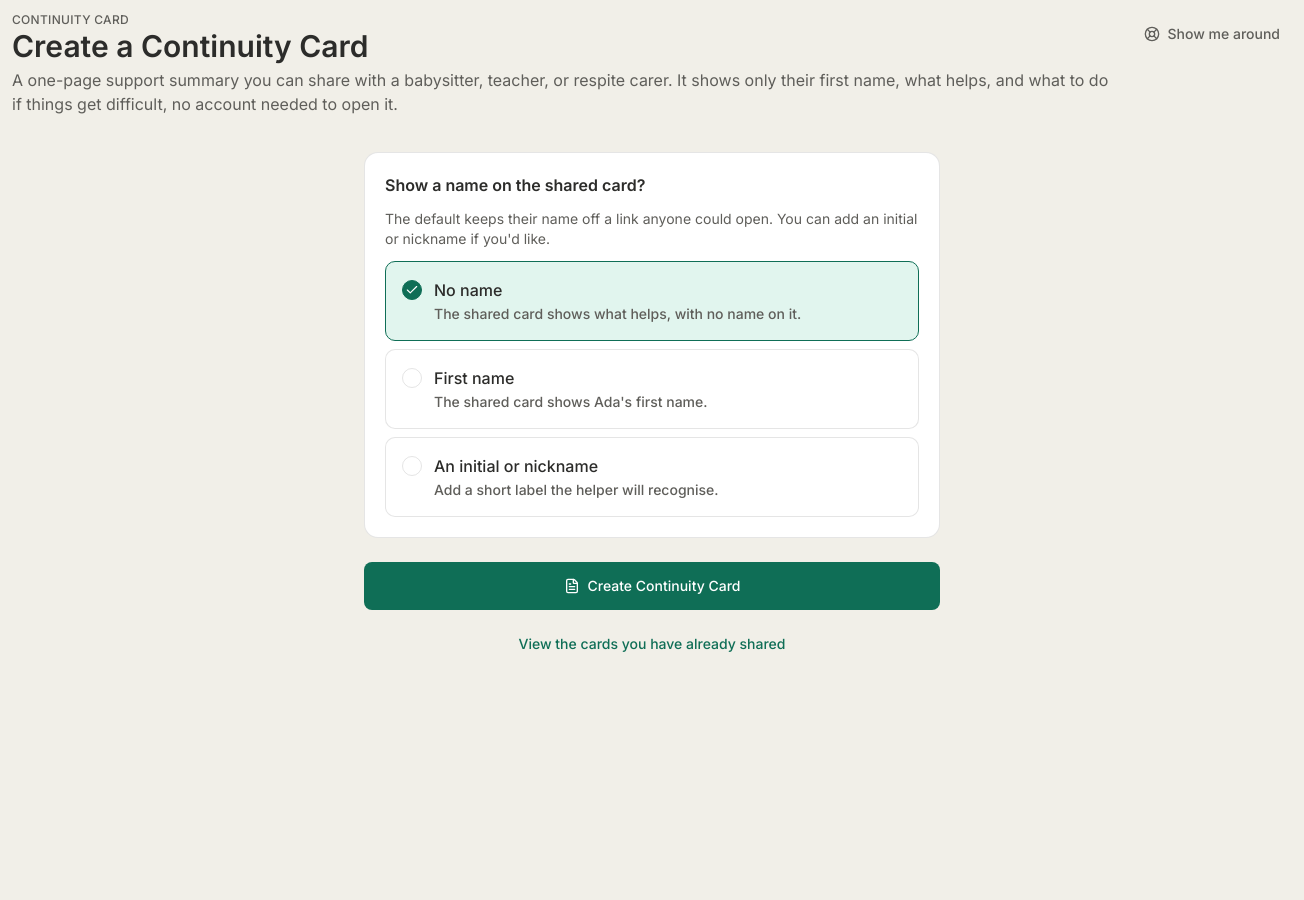
Test: CardGenerator › surfaces a friendly error when the api 404s the activity
Click the button "Create Continuity Card" at coordinates (652, 586), box [364, 562, 940, 610]
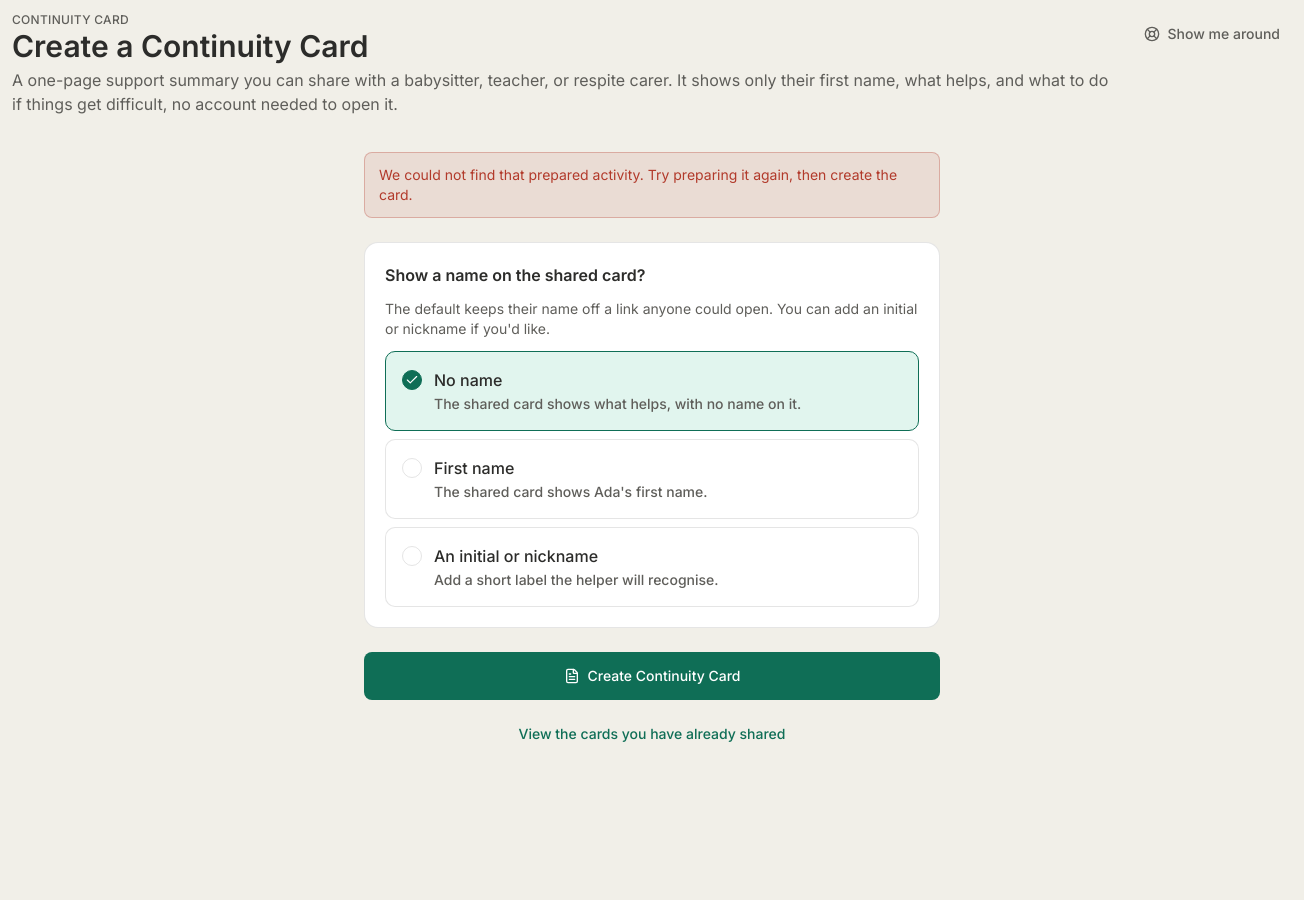
expect the message shows "could not find that prepared activity": met, box [379, 166, 897, 203]
